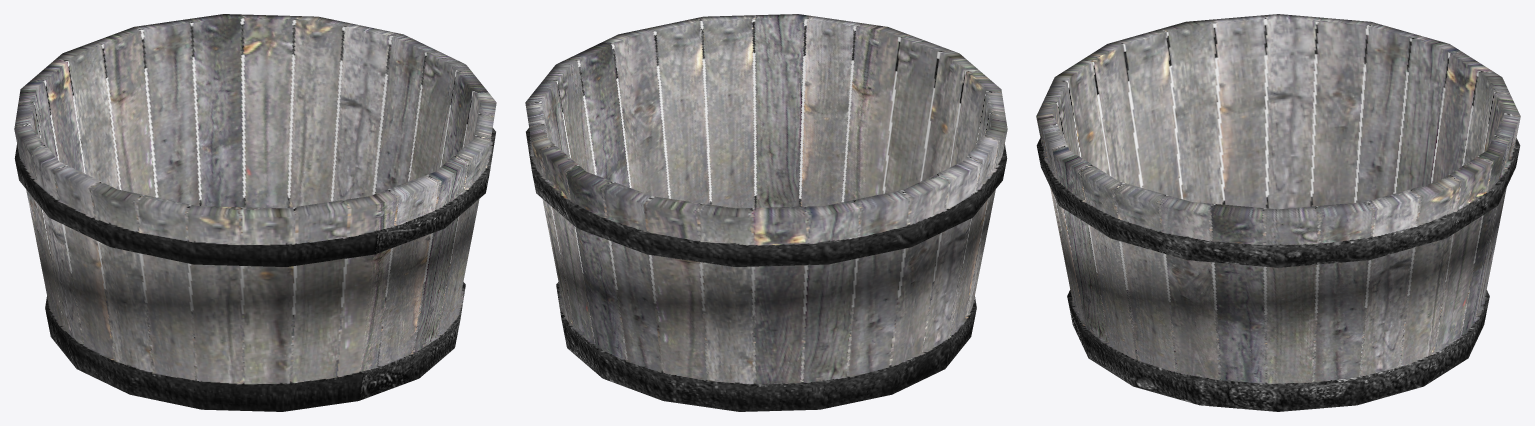
The model's file is tina.fbx.
The picture shows the model from 3 angles, left to right: view 1: azimuth 30°, elevation 25°; view 2: azimuth 150°, elevation 25°; view 3: azimuth 270°, elevation 25°; orthographic projection.
Visible parts, largest first — view 1: tina; view 2: tina; view 3: tina.
Part boxes in pixels (bbox=[...]): tina: bbox=[14, 14, 496, 411]; tina: bbox=[525, 14, 1007, 411]; tina: bbox=[1036, 14, 1520, 411].
Bounding box in the file's own units: 181 × 87.07 × 181.
